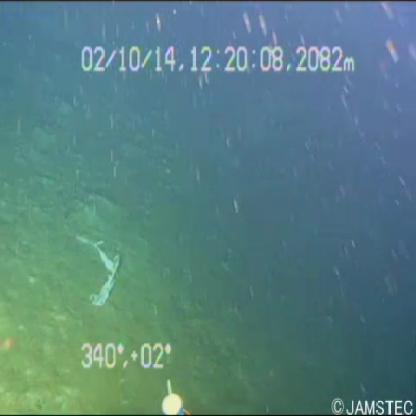Rov: (156, 370, 198, 416)
Rác: (70, 218, 130, 322)
